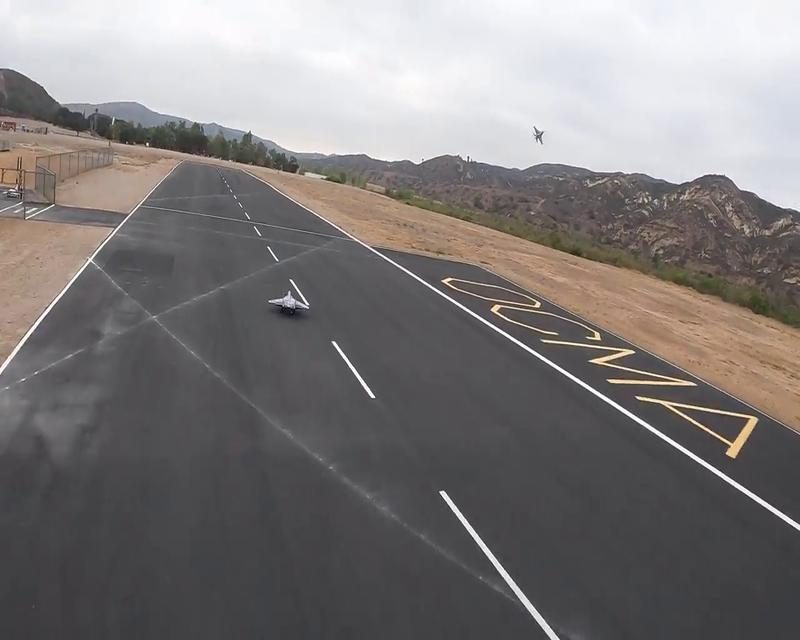UAV: (266, 289, 310, 316), (531, 124, 546, 144)
